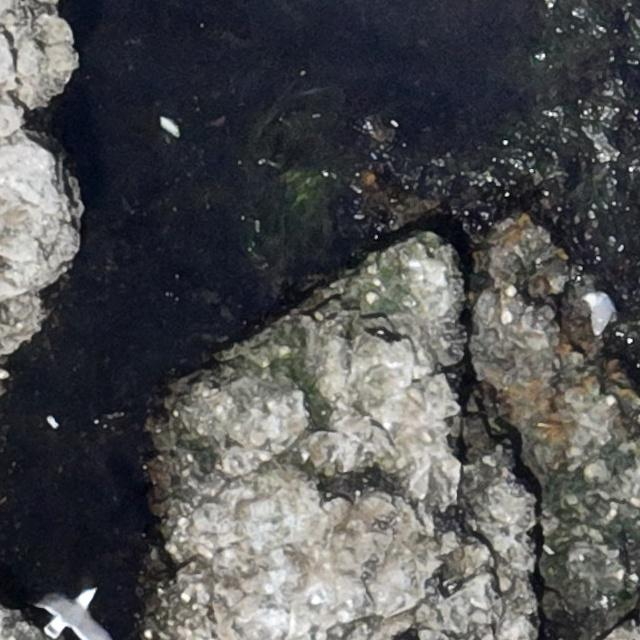F: (34, 585, 112, 639)
umineko: (582, 293, 612, 337)
